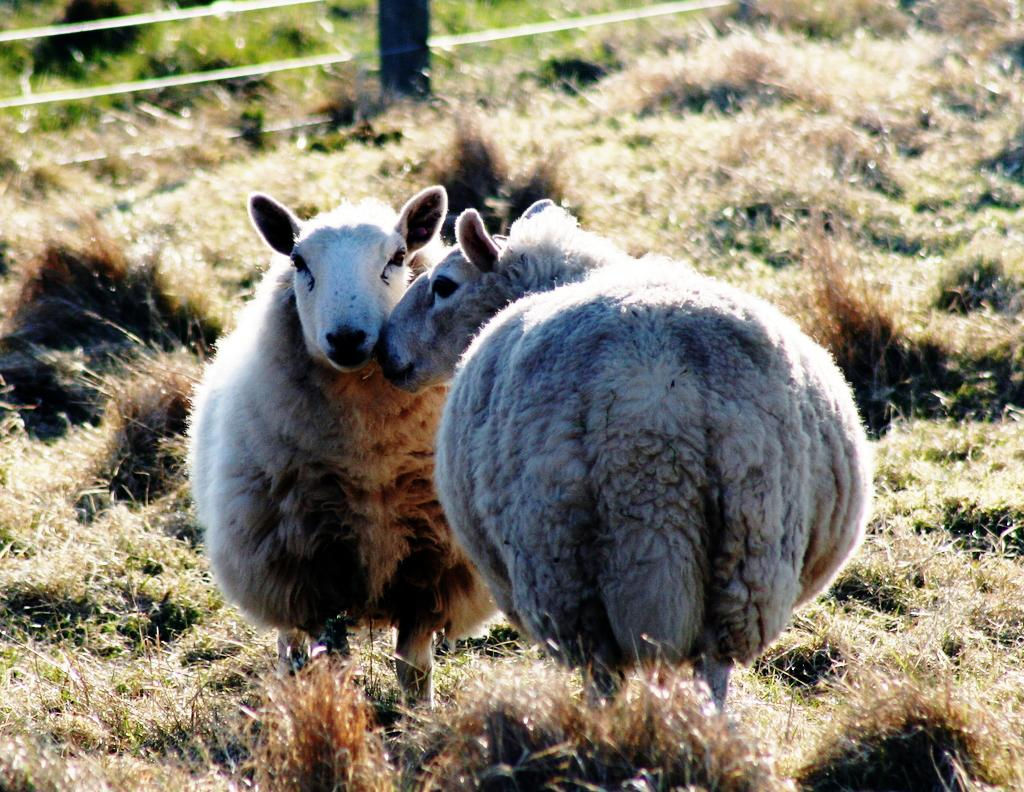Sheep: (364, 201, 874, 729), (182, 186, 502, 700)
